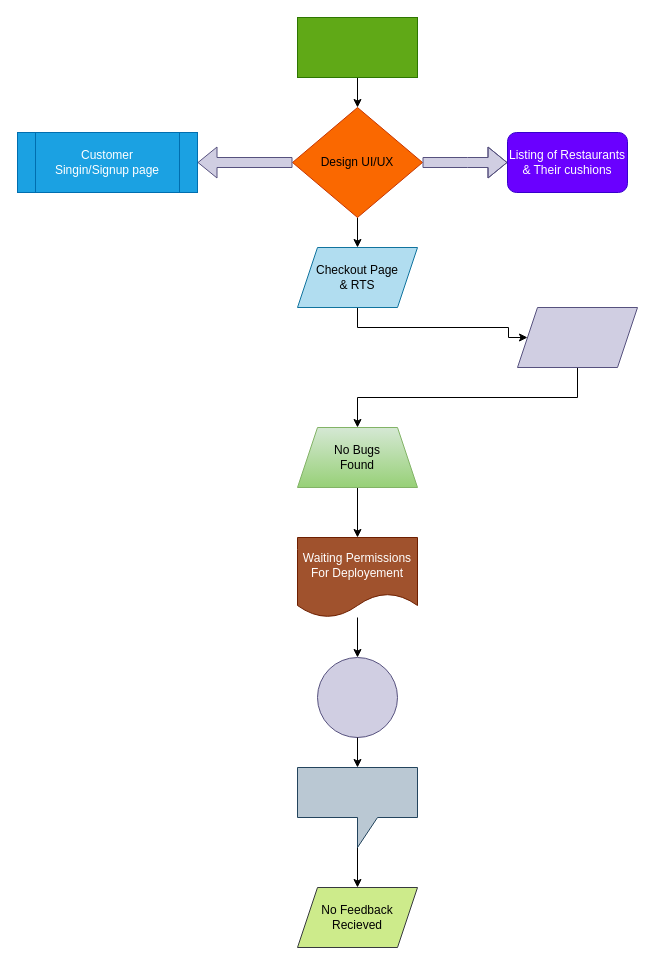
The diagram is 655 pixels wide and 965 high, and some of its shapes have lost their labels. Here are the shapes that lost their labels. From the top down, the centre of each, then its label:
point (357, 47): STK Eats
point (577, 337): Compailing Into APK
point (357, 697): Releasing Into Appstore
point (357, 807): Customer Using Application
